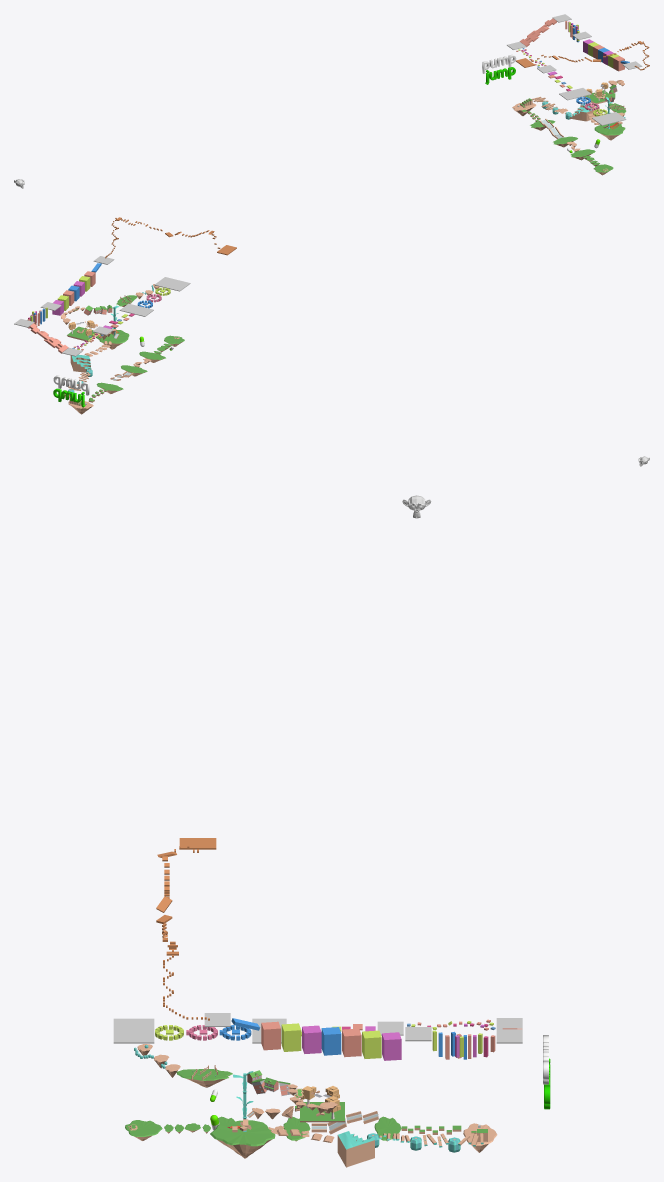
Rendered from pumpjump.glb.
3 views of the same model, one above another, from view 1: azimuth 30°, elevation 25°; view 2: azimuth 150°, elevation 25°; view 3: azimuth 270°, elevation 25° (orthographic). The views are drawn at different scales.
Parts seen in each view (by area): view 1: Text.002, Cube.061, Text.003, Vert.028, blockDirt.081; view 2: no part large enough to name; view 3: Vert.028, blockDirt.081, cliff_stepsCornerInner_rock.
Boxes of the visible parts, x1,y1,x2,y2 form: Text.002: (482, 54, 516, 73); Cube.061: (520, 18, 556, 47); Text.003: (485, 67, 515, 84); Vert.028: (594, 122, 625, 135); blockDirt.081: (592, 112, 626, 125); Vert.028: (210, 1120, 275, 1146); blockDirt.081: (113, 1018, 154, 1043); cliff_stepsCornerInner_rock: (337, 1131, 374, 1167).
Bounding box in the file's own units: 3572 × 750 × 1161.
Materials: 60 (1 with a texture image).
